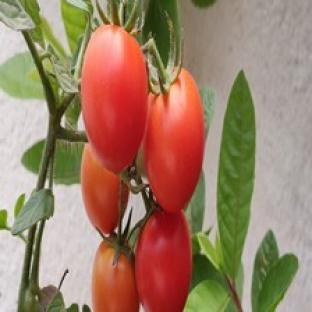Tomato: (81, 26, 147, 172), (144, 69, 204, 211), (136, 211, 192, 311), (81, 144, 121, 233), (92, 241, 139, 311)
